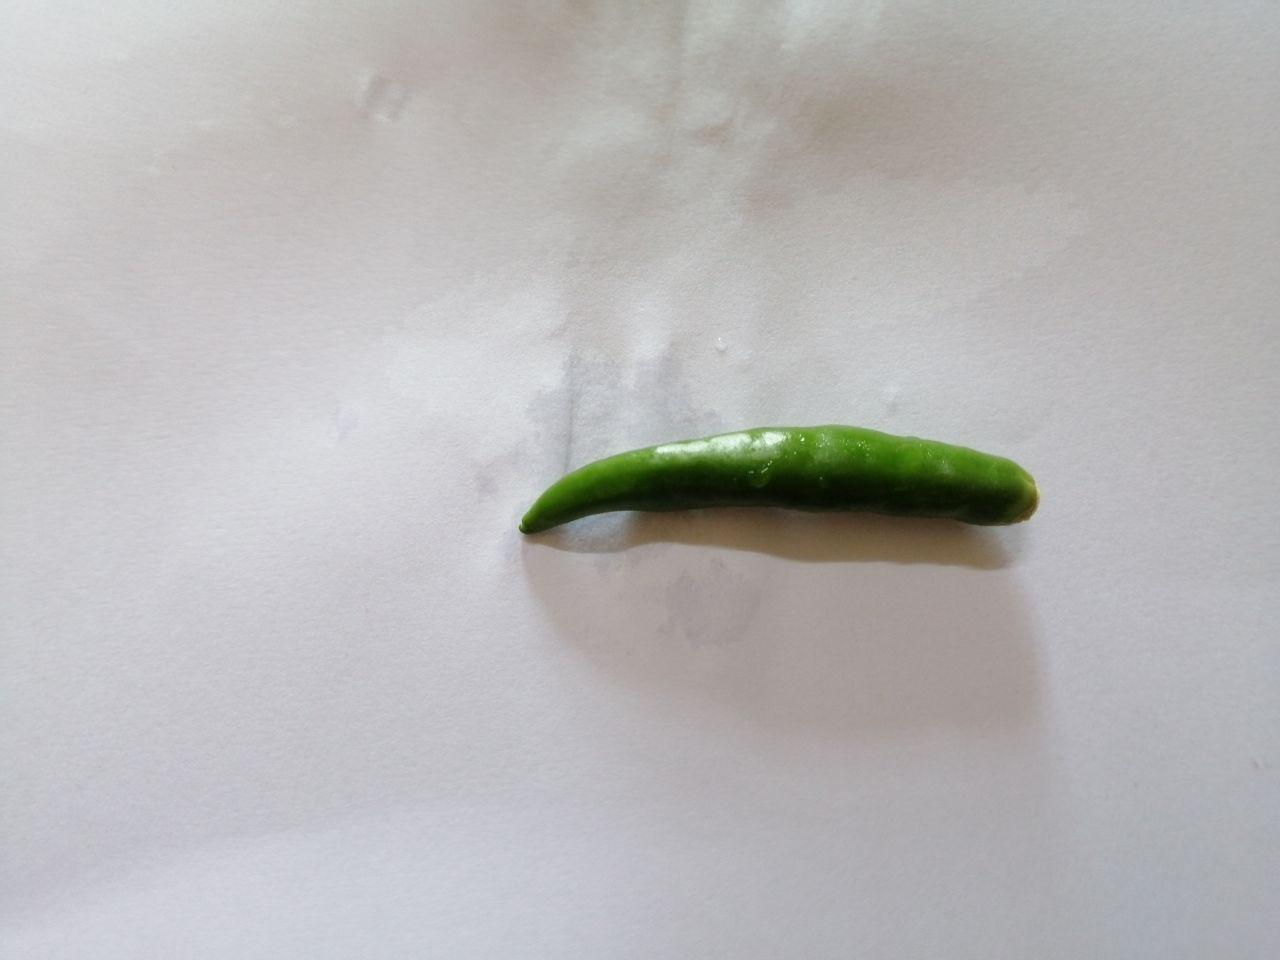lada hijau: (485, 412, 1050, 586)
